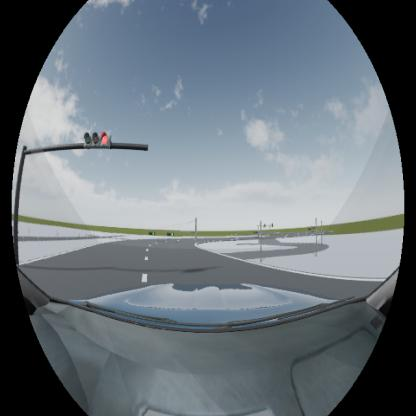Red Light: (83, 130, 112, 150)
